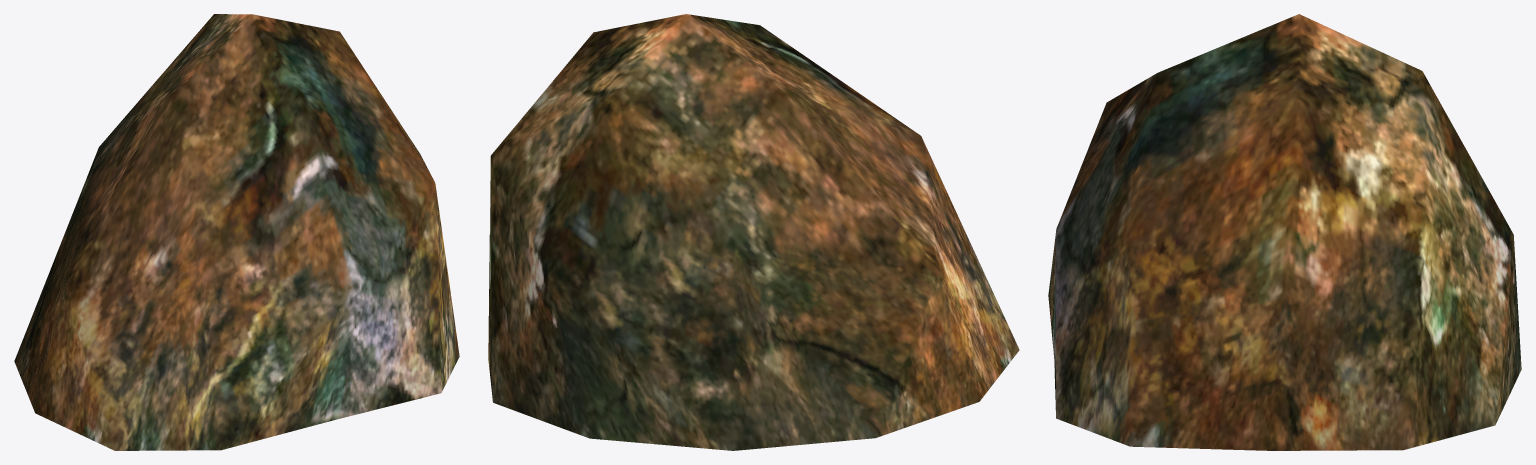
Rendered from c_stone06.glb.
3 renders of one model, left to right at view 1: azimuth 30°, elevation 25°; view 2: azimuth 150°, elevation 25°; view 3: azimuth 270°, elevation 25°, orthographic. The views are drawn at different scales.
Parts seen in each view (by area): view 1: c_stone06-col; view 2: c_stone06-col; view 3: c_stone06-col.
Part boxes in pixels (x1=…): c_stone06-col: x1=14, y1=14, x2=459, y2=450; c_stone06-col: x1=488, y1=14, x2=1019, y2=450; c_stone06-col: x1=1048, y1=14, x2=1521, y2=450.
Size of the model in its own units: 0.5216 by 0.3924 by 0.4668.
1 material, 1 textured.
